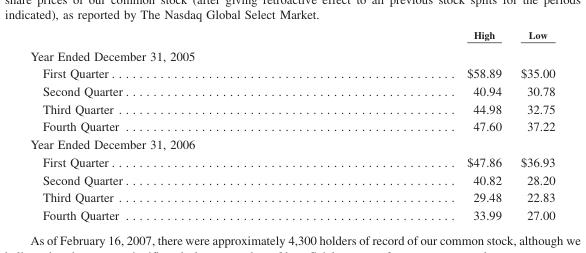table: (29, 28, 554, 221)
table column: (29, 28, 297, 221), (297, 28, 510, 221), (510, 28, 554, 221)
table column header: (29, 28, 554, 44)
table projected row header: (29, 44, 554, 64), (29, 135, 554, 152)
table row: (29, 44, 554, 64), (29, 81, 554, 99), (29, 99, 554, 117), (29, 117, 554, 135), (29, 152, 554, 170), (29, 170, 554, 188), (29, 64, 554, 81), (29, 135, 554, 152), (29, 188, 554, 205), (29, 28, 554, 44), (29, 205, 554, 221)
